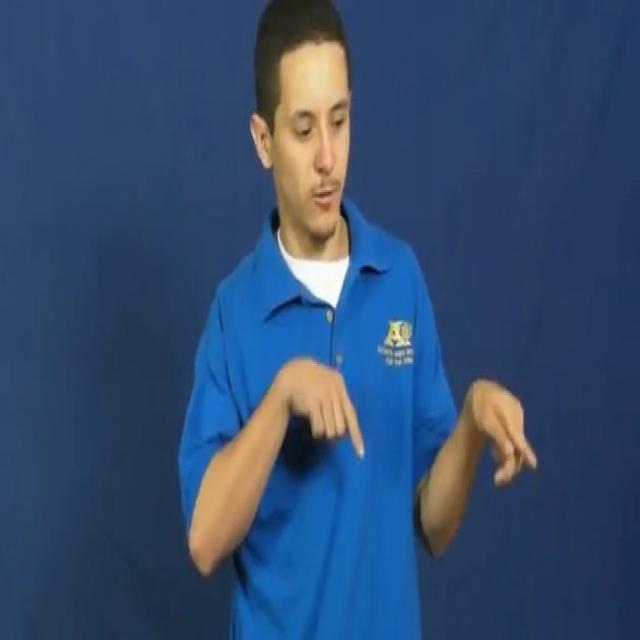order: (260, 307, 555, 533)
